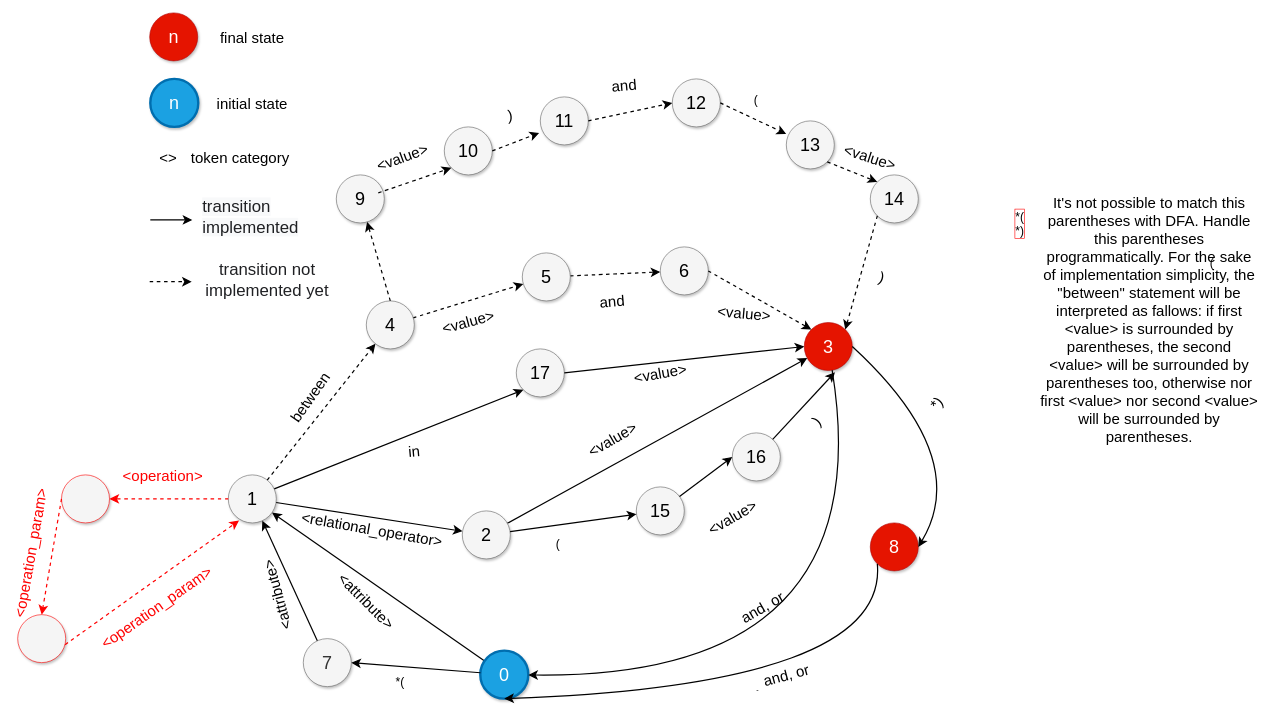
Some shapes in this 1274 by 715 pixel diagram are drawn without their labels. The shapes that lost their labels are listed below. From the top down, each one's centre as x and y in pixels, then its label:
pixel 85 499: n0
pixel 42 639: n1
